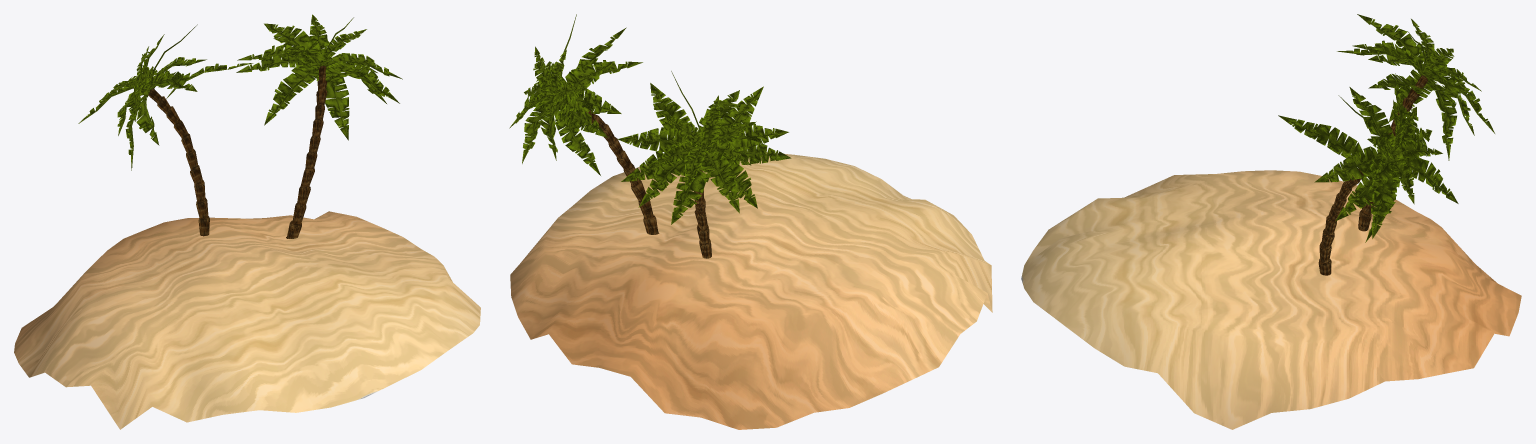
File: island4.obj
3 renders of one model, left to right at view 1: azimuth 30°, elevation 25°; view 2: azimuth 150°, elevation 25°; view 3: azimuth 270°, elevation 25°, orthographic. The views are drawn at different scales.
Parts seen in each view (by area): view 1: ground_hig, Neutre.002_Neutre.002_Island.001_5_1, Neutre.002_Neutre.002_Island.001_4_1; view 2: ground_hig, Neutre.002_Neutre.002_Island.001_4_1, Neutre.002_Neutre.002_Island.001_5_1; view 3: ground_hig, Neutre.002_Neutre.002_Island.001_5_1, Neutre.002_Neutre.002_Island.001_4_1.
Boxes of the visible parts, box(x1,y1,x2,y2) form: ground_hig: box(14, 211, 480, 429); Neutre.002_Neutre.002_Island.001_5_1: box(236, 14, 402, 238); Neutre.002_Neutre.002_Island.001_4_1: box(78, 24, 253, 236); ground_hig: box(510, 152, 992, 429); Neutre.002_Neutre.002_Island.001_4_1: box(617, 71, 791, 258); Neutre.002_Neutre.002_Island.001_5_1: box(509, 14, 659, 234); ground_hig: box(1021, 170, 1521, 429); Neutre.002_Neutre.002_Island.001_5_1: box(1278, 73, 1458, 275); Neutre.002_Neutre.002_Island.001_4_1: box(1337, 14, 1494, 231).
Bounding box in the file's own units: 3.5 × 2.42 × 3.5.
